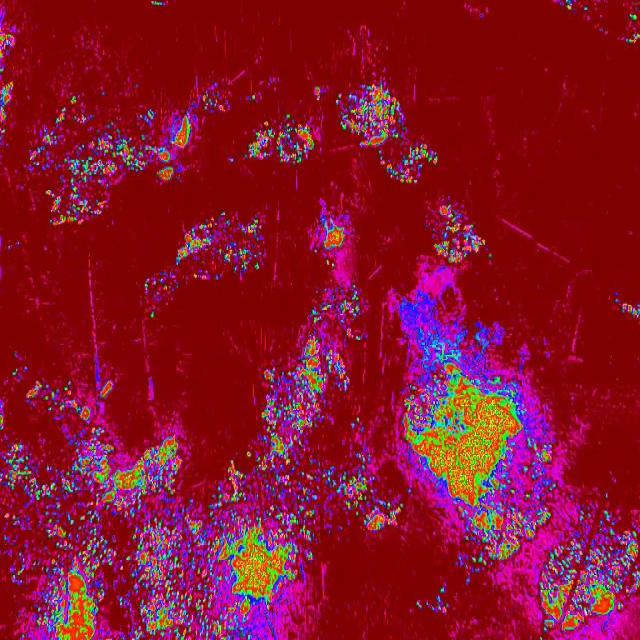fire: (0, 440, 320, 640), (398, 298, 566, 572), (29, 96, 202, 182), (260, 326, 352, 462), (542, 516, 640, 638), (340, 83, 440, 186), (177, 213, 272, 283), (242, 114, 318, 170), (40, 181, 108, 228), (316, 219, 352, 255)
